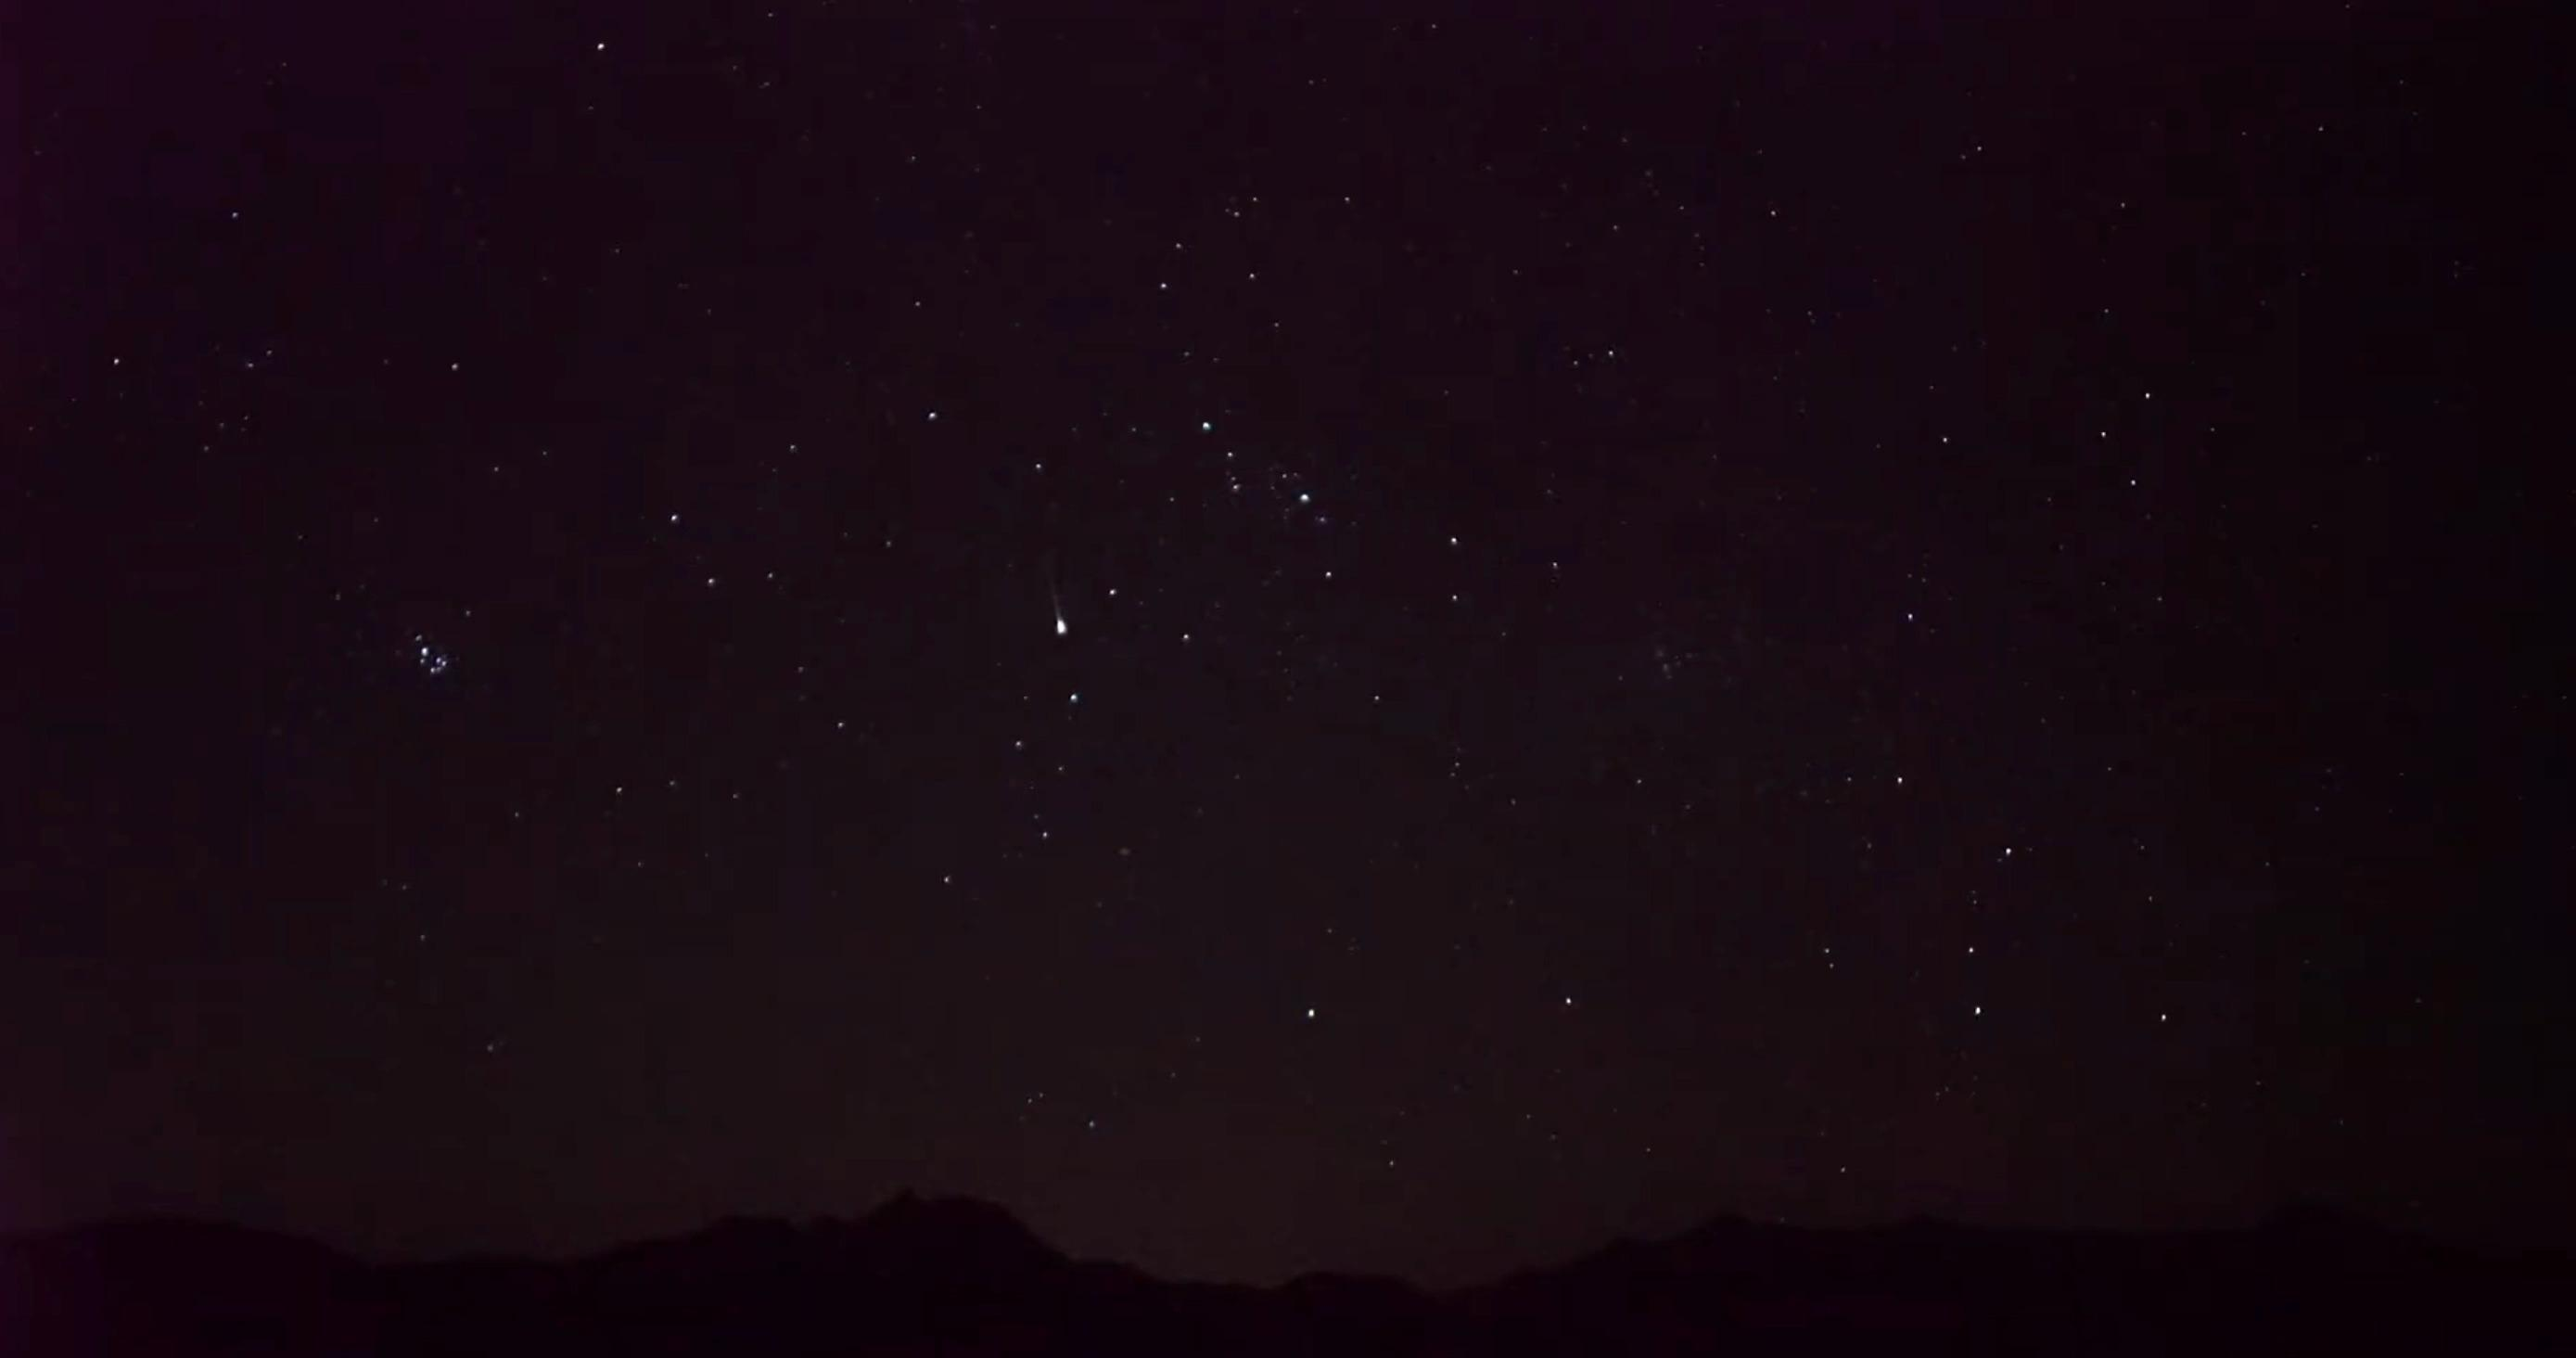meteorite: (998, 573, 1104, 649)
